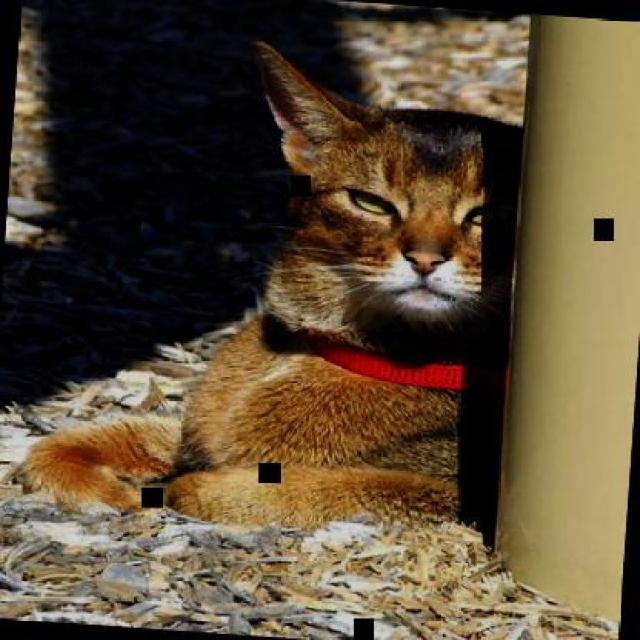cat: (22, 26, 526, 542)
